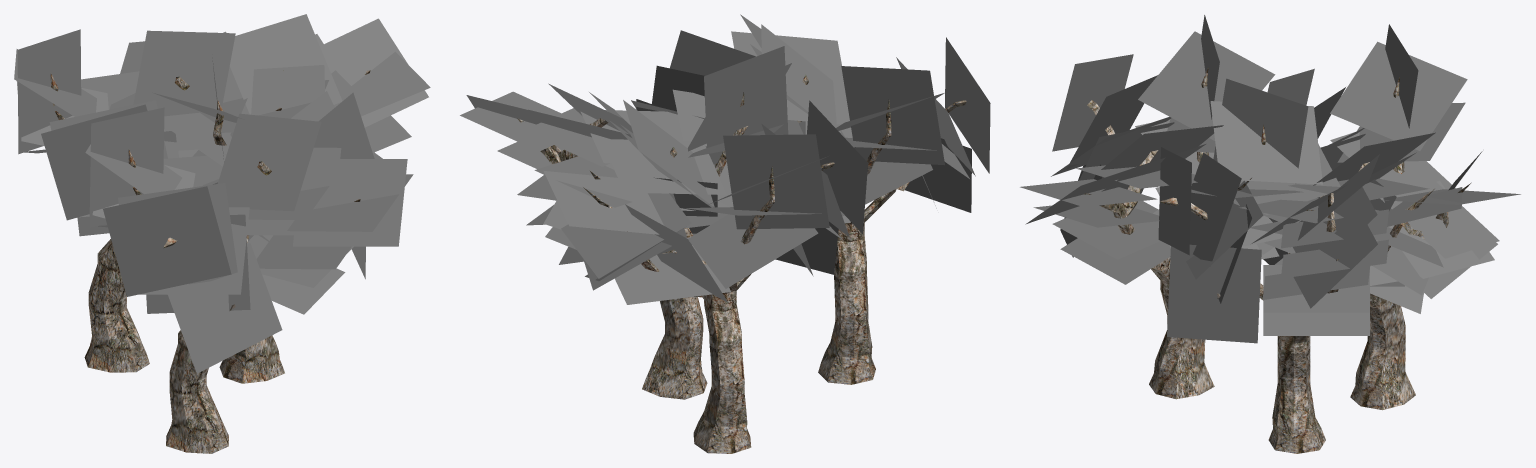
The model's file is treeclump2.fbx.
3 views of the same model, side by side, from view 1: azimuth 30°, elevation 25°; view 2: azimuth 150°, elevation 25°; view 3: azimuth 270°, elevation 25° (orthographic).
Visible parts, largest first — view 1: Box008, Box007, Box001, Object002, Object003, Object001; view 2: Box007, Box008, Box001, Object002, Object003, Object001; view 3: Box001, Box008, Box007, Object001, Object002, Object003.
Boxes of the visible parts, x1=… form: Box008: x1=85, y1=107, x2=413, y2=373; Box007: x1=14, y1=29, x2=328, y2=236; Box001: x1=152, y1=14, x2=430, y2=279; Object002: x1=50, y1=73, x2=281, y2=372; Object003: x1=128, y1=149, x2=360, y2=453; Object001: x1=213, y1=70, x2=370, y2=383; Box007: x1=543, y1=92, x2=867, y2=304; Box008: x1=672, y1=14, x2=990, y2=232; Box001: x1=460, y1=30, x2=791, y2=264; Object002: x1=583, y1=147, x2=834, y2=453; Object003: x1=797, y1=74, x2=966, y2=384; Object001: x1=517, y1=92, x2=748, y2=399; Box001: x1=1158, y1=78, x2=1462, y2=343; Box008: x1=1020, y1=15, x2=1303, y2=284; Box007: x1=1239, y1=24, x2=1520, y2=298; Object001: x1=1160, y1=125, x2=1434, y2=453; Object002: x1=1306, y1=77, x2=1471, y2=410; Object003: x1=1084, y1=68, x2=1251, y2=399.
Size of the model in its own units: 125 by 94.95 by 133.
Materials: 2 (1 with a texture image).
